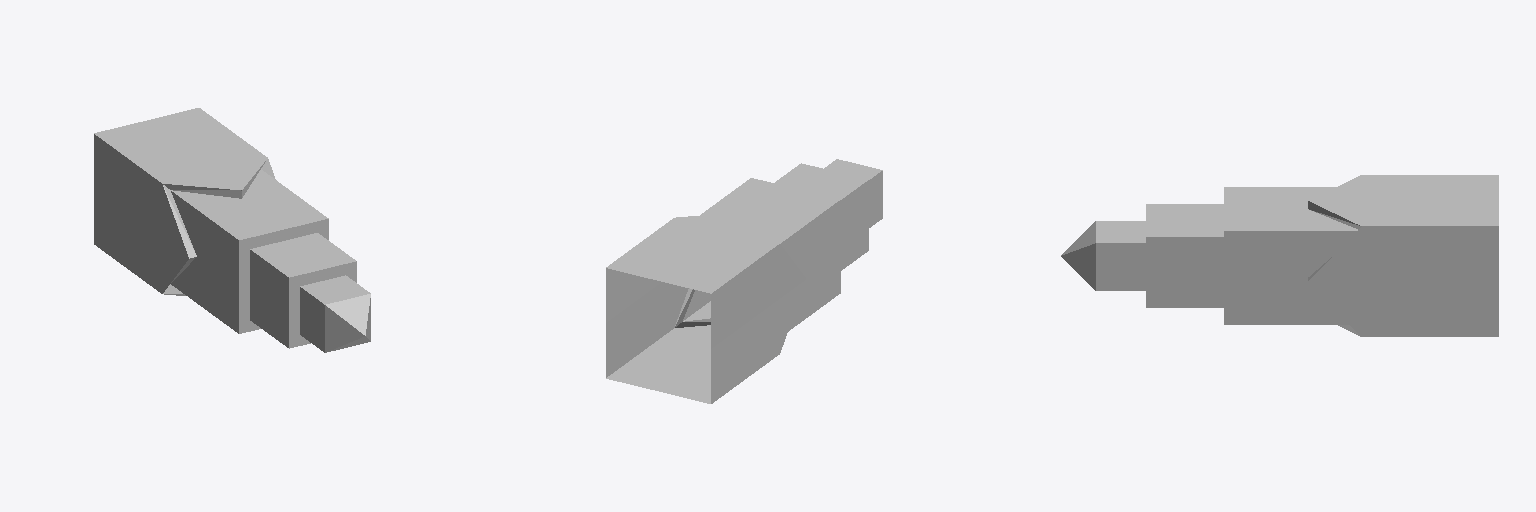
The model's file is tower18.obj.
3 views of the same model, side by side, from view 1: azimuth 30°, elevation 25°; view 2: azimuth 150°, elevation 25°; view 3: azimuth 270°, elevation 25° (orthographic).
Visible parts, largest first — view 1: tower18; view 2: tower18; view 3: tower18.
Boxes of the visible parts, x1=… form: tower18: x1=94, y1=108, x2=370, y2=352; tower18: x1=606, y1=159, x2=882, y2=403; tower18: x1=1061, y1=175, x2=1498, y2=336.
Size of the model in its own units: 19.55 by 19.55 by 70.14.